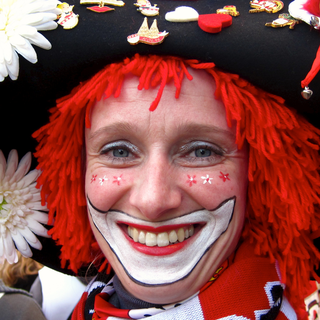eye: (97, 139, 142, 165), (177, 140, 225, 164)
